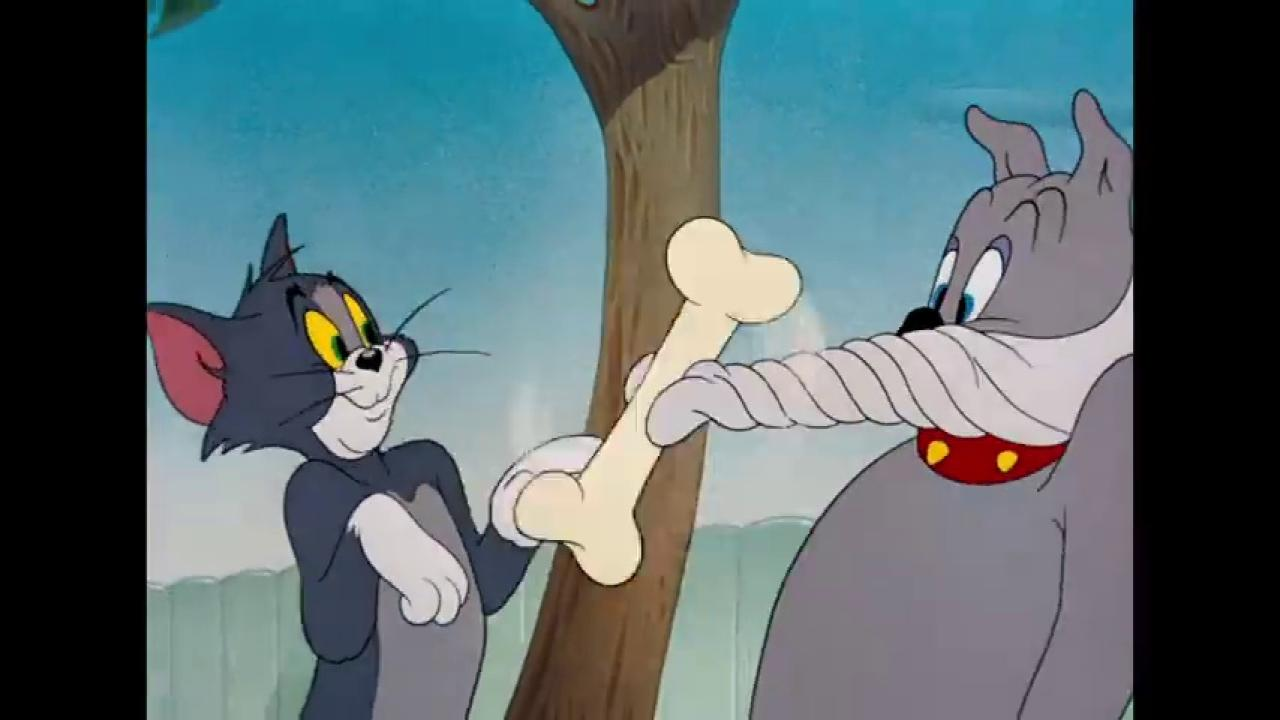Tom: (148, 211, 605, 720)
